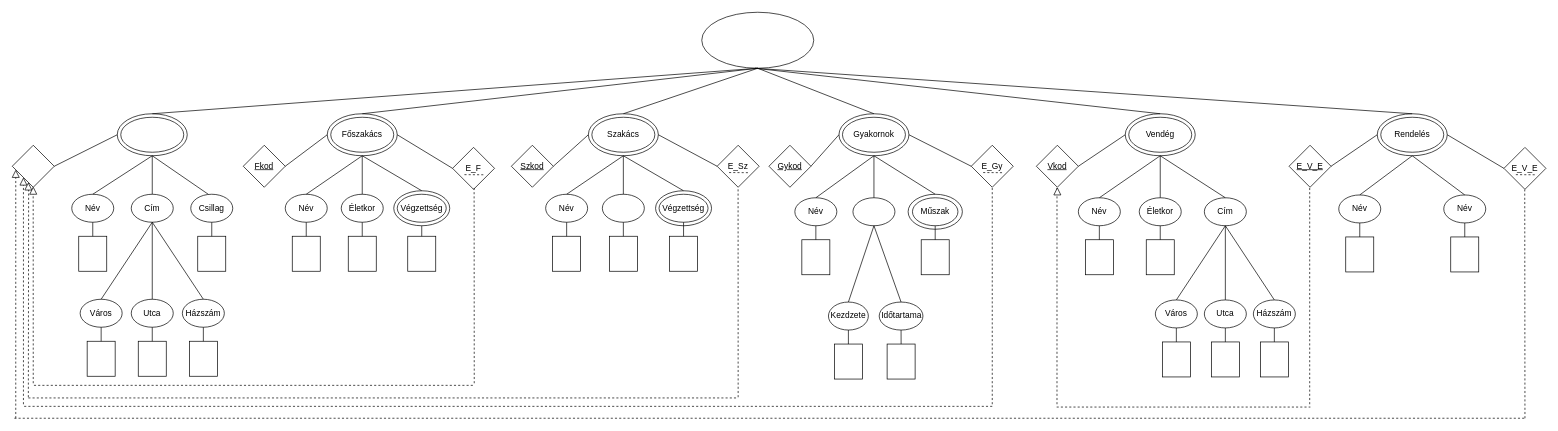
The diagram is 1558 pixels wide and 431 high, and some of its shapes have lost their labels. Each missing label, with the centre of its shape:
"Ekod" belongs at [33,166].
"GJWXEU_Vendéglátás" belongs at [757,40].
"Gyakorlat" belongs at [873,211].
"Részleg" belongs at [623,208].
"Étterem" belongs at [152,134].
